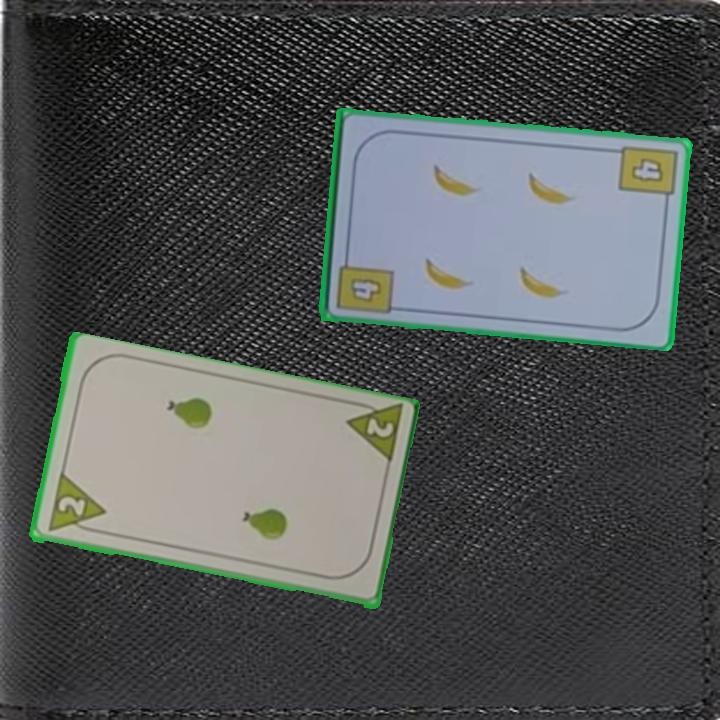2p: (341, 396, 405, 469), (44, 472, 108, 538)
4b: (615, 141, 680, 209), (332, 248, 396, 317)
